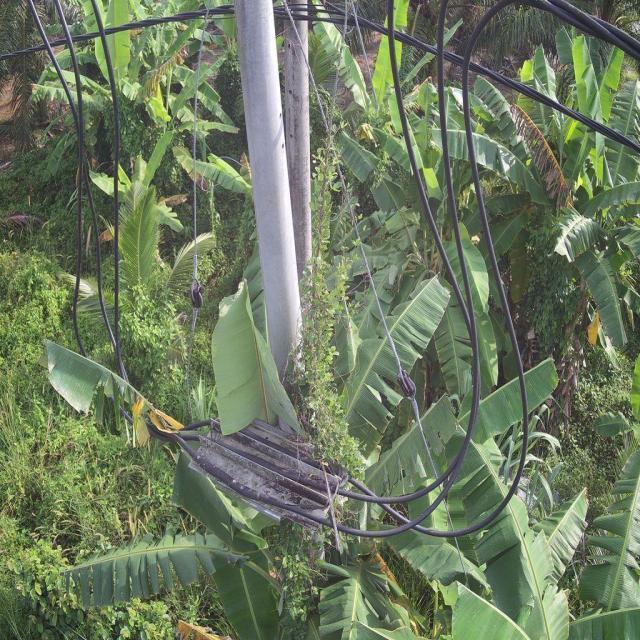critical vegetation: (280, 103, 374, 626)
